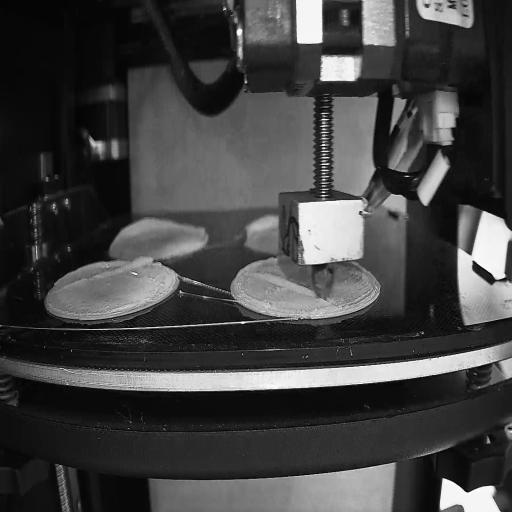over_extrusion: (61, 252, 153, 290), (111, 214, 208, 246), (252, 269, 313, 298)
